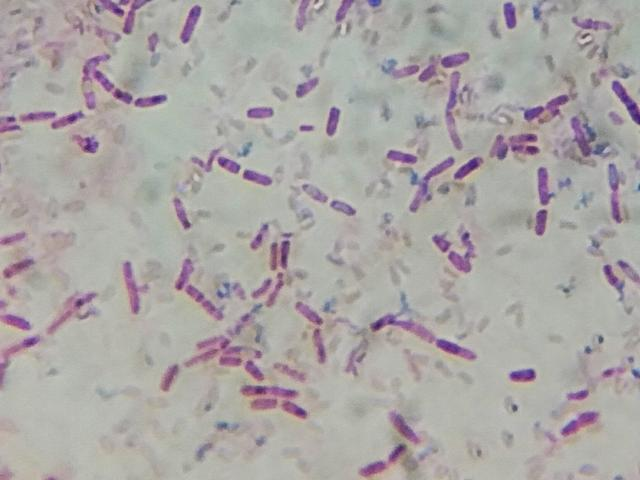E. coli: (42, 289, 100, 332), (122, 260, 146, 318), (609, 77, 640, 121), (188, 285, 225, 321), (249, 397, 308, 417), (178, 5, 205, 48), (2, 329, 40, 359), (562, 409, 604, 435), (444, 109, 471, 149), (130, 87, 172, 111), (435, 336, 473, 362), (171, 193, 195, 233), (237, 382, 301, 397), (571, 112, 591, 159), (388, 410, 417, 441), (157, 361, 185, 393), (390, 318, 427, 342), (246, 101, 281, 126), (444, 251, 474, 280), (533, 165, 553, 206), (445, 73, 467, 110), (132, 2, 155, 37), (410, 179, 431, 215), (325, 104, 345, 140), (171, 254, 192, 288), (573, 14, 610, 33), (499, 2, 524, 30), (457, 158, 490, 179), (386, 441, 417, 463), (510, 367, 544, 387), (273, 359, 305, 380), (293, 1, 313, 34), (3, 306, 29, 331), (246, 221, 270, 248), (608, 189, 626, 224), (54, 112, 91, 129), (21, 106, 58, 123), (300, 178, 327, 201), (439, 50, 470, 70), (329, 198, 357, 220), (422, 157, 456, 175), (0, 228, 29, 249), (3, 255, 36, 273), (246, 274, 270, 298), (214, 150, 239, 173), (615, 255, 640, 278), (428, 230, 453, 253), (360, 458, 387, 479), (244, 167, 272, 187), (276, 234, 292, 269), (272, 276, 288, 311), (82, 69, 95, 112), (533, 206, 552, 234), (387, 147, 415, 166), (81, 54, 113, 70), (389, 62, 419, 79), (295, 300, 320, 320), (309, 327, 325, 358), (336, 0, 354, 27), (296, 74, 321, 93), (197, 334, 226, 350), (569, 381, 590, 403), (604, 264, 621, 290), (419, 63, 440, 84), (489, 136, 509, 158), (101, 0, 125, 18), (226, 345, 262, 357), (186, 350, 213, 366), (605, 162, 621, 188), (507, 134, 536, 148), (269, 240, 283, 268), (112, 88, 131, 107), (541, 110, 561, 128), (248, 361, 265, 380), (544, 90, 564, 106), (370, 312, 391, 327), (0, 114, 17, 132), (92, 70, 109, 86), (301, 122, 317, 138), (524, 102, 541, 117), (513, 145, 541, 154), (221, 354, 236, 370)
